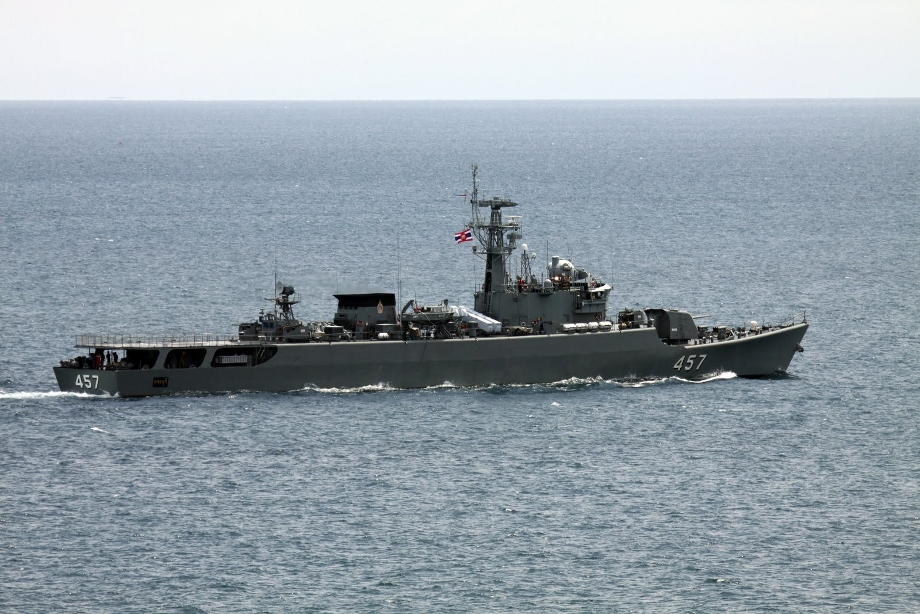warship: (50, 194, 813, 398)
